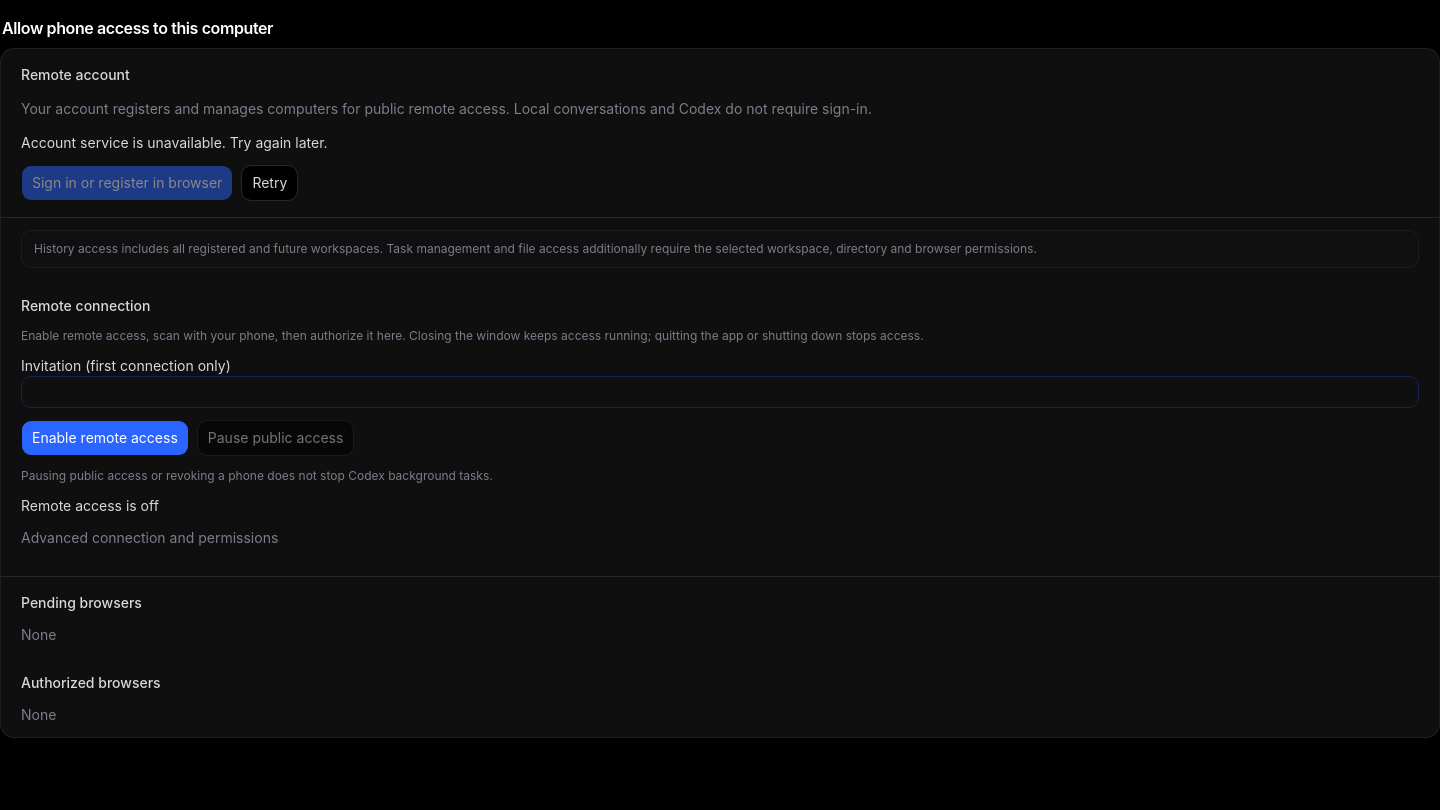
Scenario: keeps manual pairing inside advanced settings without exposing an unready relay code
Click the button "Advanced connection and permissions": (150, 538) [21,528,278,548]
(page scrolled)
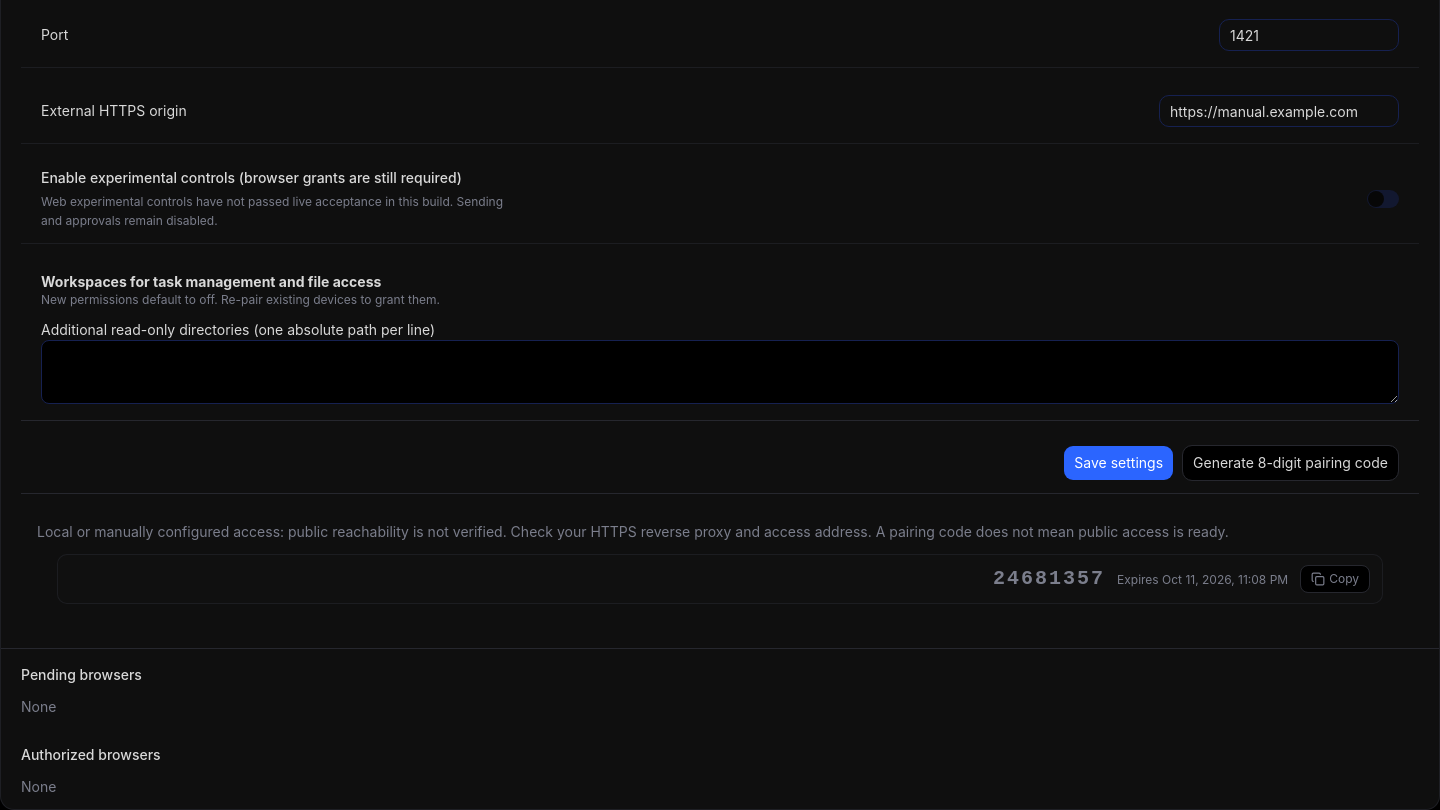
Check: the text "Local or manually configured access" is shown, box [37,522,1229,540]
Click the button "Generate 8-digit pairing code": (1290, 462) [1182,444,1399,480]
Wait 2000 ms
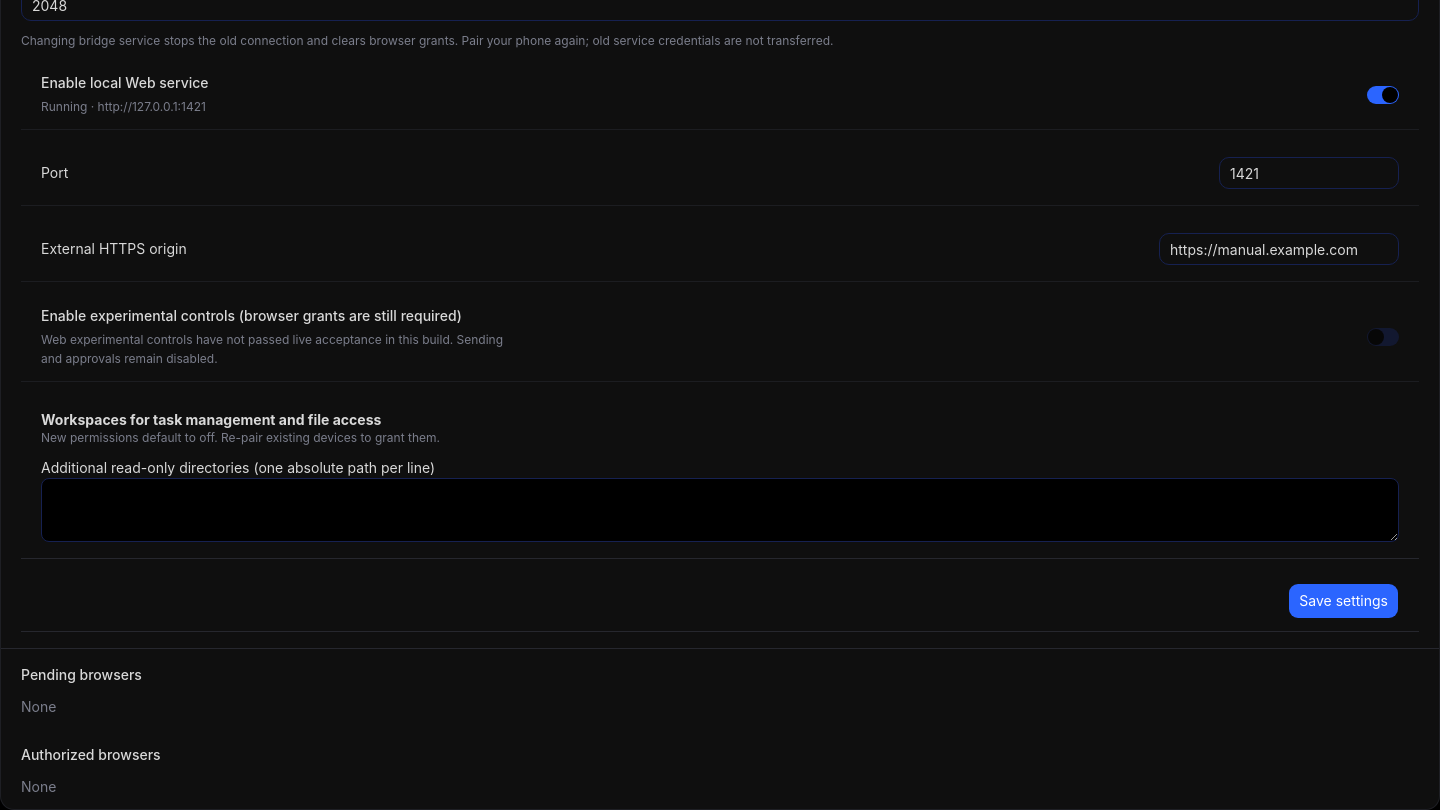
Check: the text "24681357" is gone
Check: the button "Generate 8-digit pairing code" is gone
